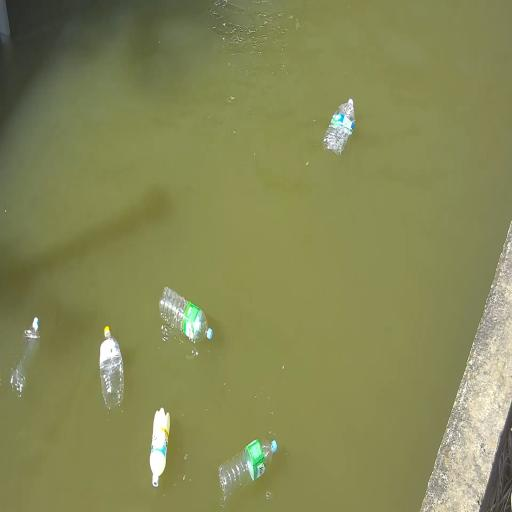plastic: (219, 439, 277, 504), (160, 287, 212, 343), (10, 316, 40, 398), (100, 326, 124, 420), (323, 99, 355, 155), (150, 408, 170, 487)
